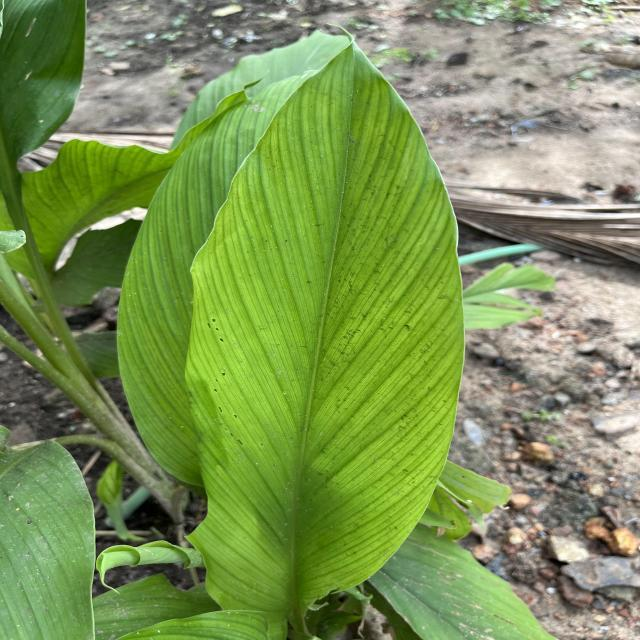Curcuma longa: (179, 20, 470, 624)
